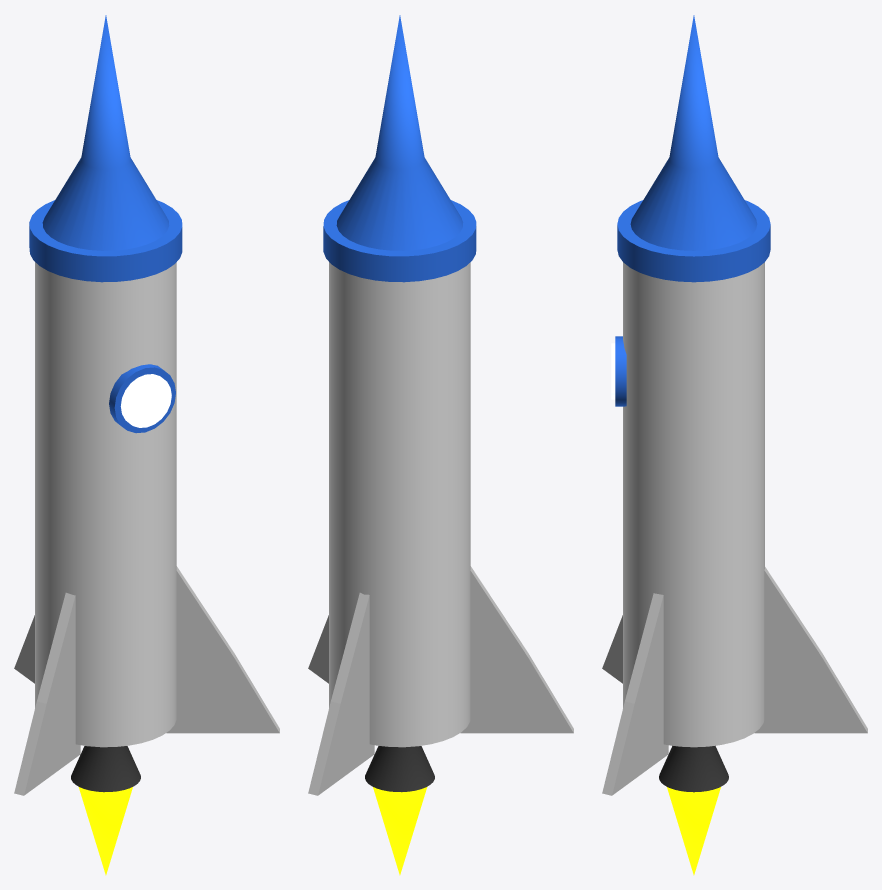
The model's file is Rocket_06_TallNeedle.fbx.
The picture shows the model from 3 angles, left to right: view 1: azimuth 30°, elevation 25°; view 2: azimuth 150°, elevation 25°; view 3: azimuth 270°, elevation 25°; orthographic projection.
Visible parts, largest first — view 1: R06_Body, R06_Nose, R06_Fin_3, R06_Fin_2, R06_Collar, R06_Nozzle_1, R06_Flame_1, R06_Window_1, R06_WindowFrame_1, R06_Fin_1; view 2: R06_Body, R06_Nose, R06_Fin_2, R06_Fin_1, R06_Collar, R06_Nozzle_1, R06_Flame_1, R06_Fin_3; view 3: R06_Body, R06_Nose, R06_Fin_1, R06_Fin_3, R06_Collar, R06_Nozzle_1, R06_Flame_1, R06_WindowFrame_1, R06_Fin_2.
Boxes of the visible parts, x1=… form: R06_Body: x1=35, y1=262, x2=176, y2=747; R06_Nose: x1=42, y1=15, x2=169, y2=250; R06_Fin_3: x1=166, y1=566, x2=279, y2=733; R06_Fin_2: x1=14, y1=592, x2=80, y2=795; R06_Collar: x1=29, y1=200, x2=182, y2=282; R06_Nozzle_1: x1=71, y1=746, x2=140, y2=792; R06_Flame_1: x1=78, y1=787, x2=132, y2=875; R06_Window_1: x1=120, y1=374, x2=171, y2=427; R06_WindowFrame_1: x1=109, y1=364, x2=175, y2=433; R06_Fin_1: x1=14, y1=615, x2=34, y2=683; R06_Body: x1=329, y1=262, x2=470, y2=747; R06_Nose: x1=336, y1=15, x2=463, y2=250; R06_Fin_2: x1=460, y1=566, x2=573, y2=733; R06_Fin_1: x1=308, y1=592, x2=374, y2=795; R06_Collar: x1=323, y1=200, x2=476, y2=282; R06_Nozzle_1: x1=365, y1=746, x2=434, y2=792; R06_Flame_1: x1=373, y1=787, x2=427, y2=875; R06_Fin_3: x1=308, y1=615, x2=328, y2=683; R06_Body: x1=623, y1=262, x2=764, y2=747; R06_Nose: x1=630, y1=15, x2=757, y2=250; R06_Fin_1: x1=754, y1=567, x2=867, y2=733; R06_Fin_3: x1=602, y1=593, x2=668, y2=795; R06_Collar: x1=617, y1=200, x2=770, y2=282; R06_Nozzle_1: x1=659, y1=745, x2=728, y2=792; R06_Flame_1: x1=667, y1=787, x2=720, y2=875; R06_WindowFrame_1: x1=615, y1=336, x2=626, y2=406; R06_Fin_2: x1=602, y1=615, x2=622, y2=683.
Bounding box in the file's own units: 3.24 × 10.05 × 2.81.
